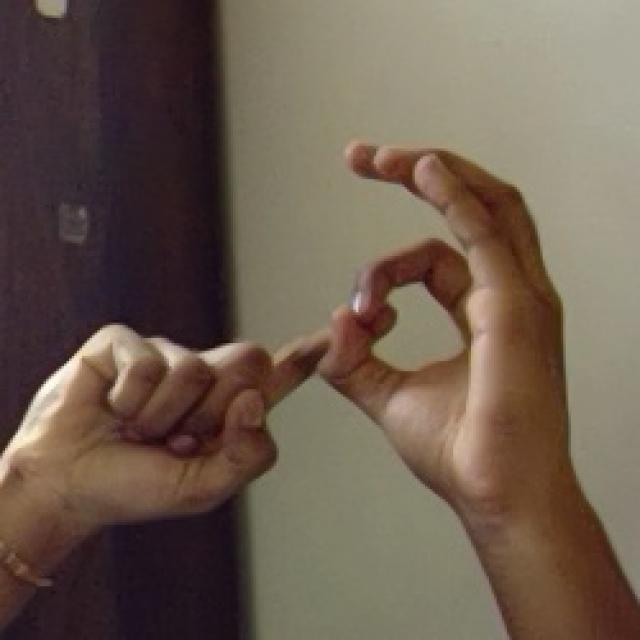Alphabet-Q: (18, 126, 576, 554)
